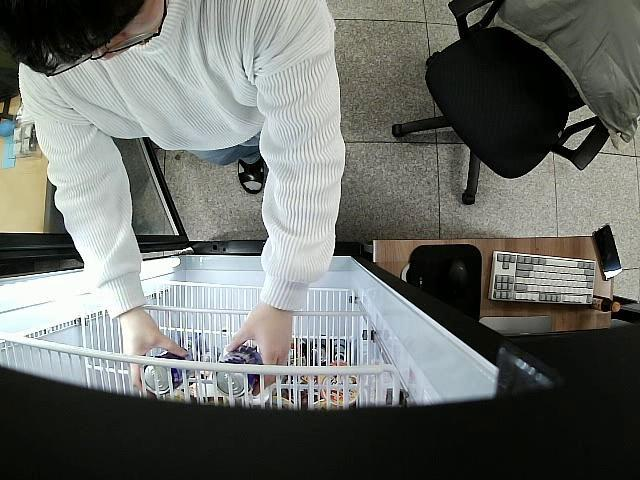14_welchsGrape: (144, 347, 196, 396), (216, 345, 265, 397)
